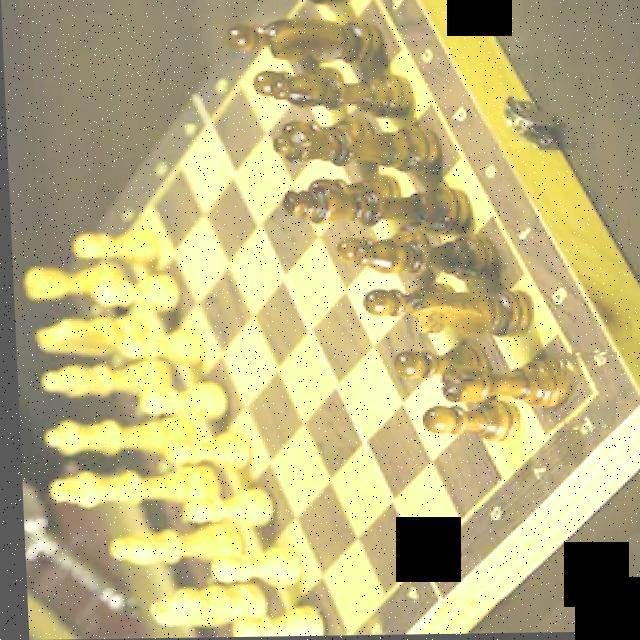chess-table-corners: (550, 354, 616, 435), (73, 258, 121, 302)
